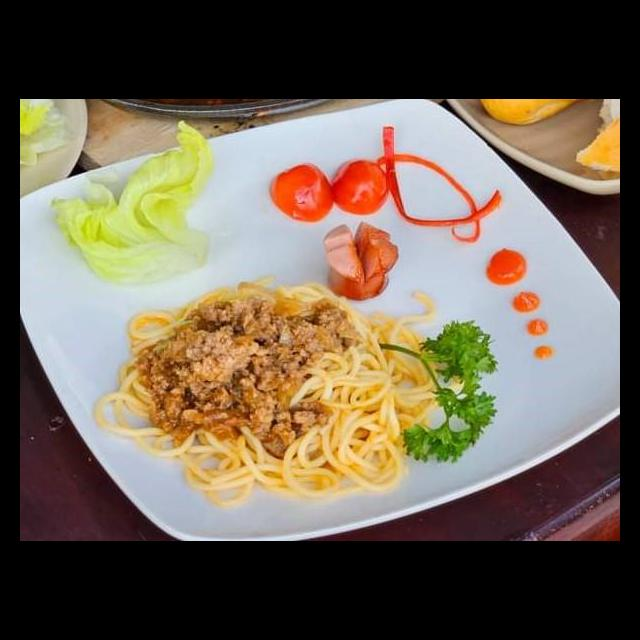mi: (87, 268, 453, 512)
thit bam: (130, 297, 353, 460)
